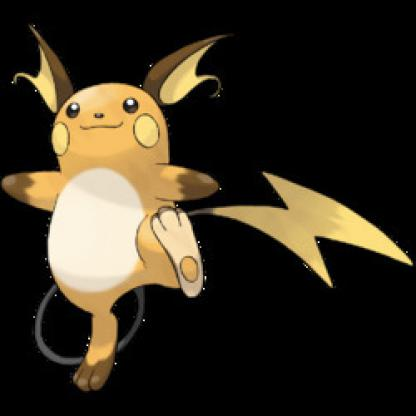Raichu: (4, 19, 410, 392)
